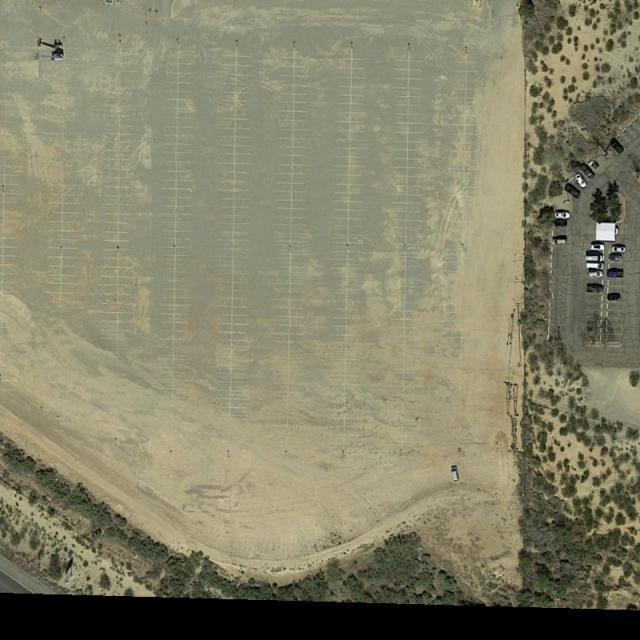vehicle: (579, 163, 597, 180), (565, 182, 582, 198), (610, 138, 626, 154), (574, 174, 587, 190), (607, 268, 626, 278), (586, 284, 606, 293), (554, 211, 572, 219), (551, 218, 567, 227), (585, 262, 603, 270), (450, 466, 459, 482), (550, 238, 567, 246), (587, 271, 606, 278), (607, 294, 623, 302), (609, 254, 624, 262), (586, 256, 605, 262), (591, 244, 603, 253), (613, 246, 626, 254)
